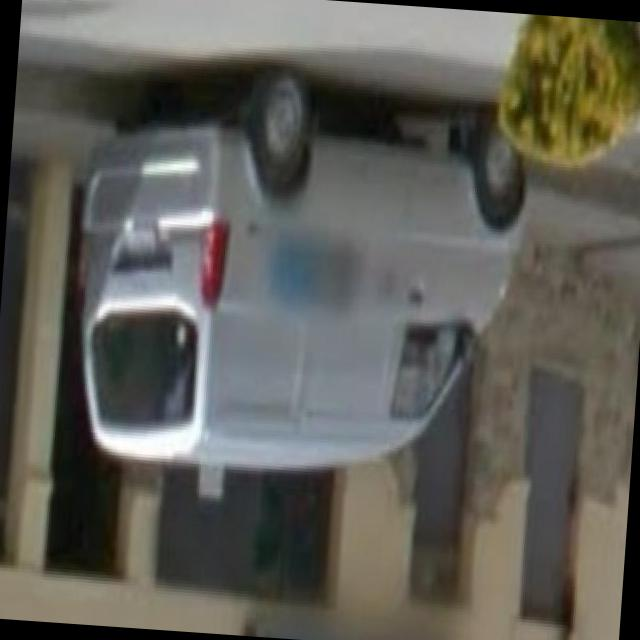car: (65, 59, 530, 472)
